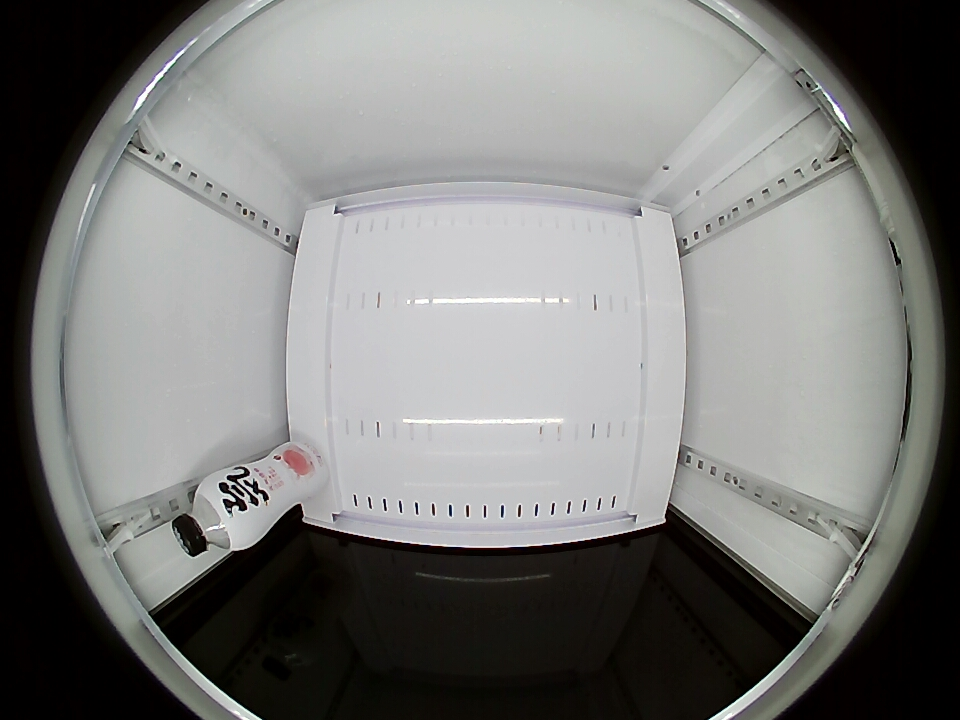yuanqishui: (170, 475, 257, 558)
